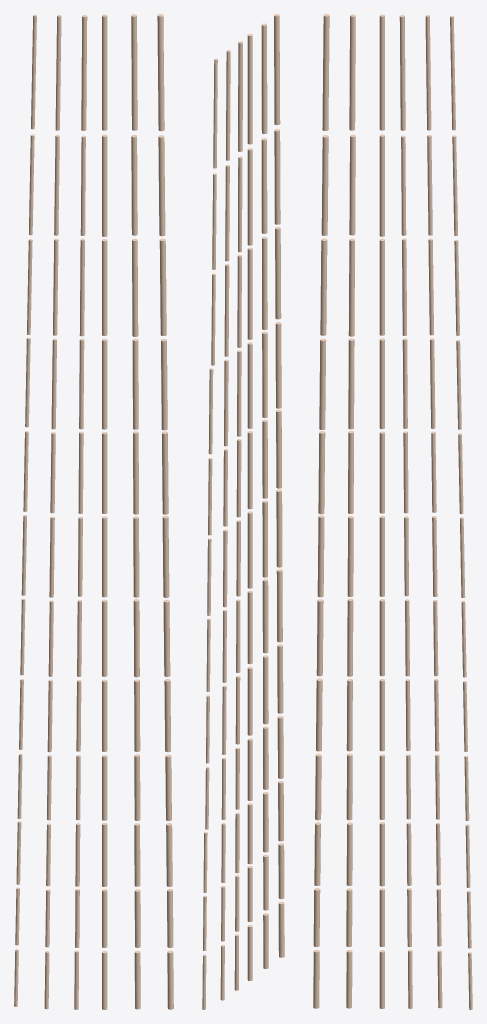
Rendered from ElecString.glb.
3 renders of one model, left to right at view 1: azimuth 90°, elevation 25°; view 2: azimuth 150°, elevation 25°; view 3: azimuth 270°, elevation 25°, orthographic. The views are drawn at different scales.
Parts seen in each view (by area): view 1: S6_1, S5_1, S4_1, S5_2, S6_2, S3_1, S6_3, S6_4, S4_2, S5_4, S5_3, S2_1 (+34 smaller); view 2: S5_1, S6_1, S4_1, S6_2, S5_2, S4_2, S6_4, S6_3, S5_3, S4_3, S3_1, S6_6 (+59 smaller); view 3: S6_1, S5_1, S4_1, S5_2, S6_2, S3_1, S6_3, S4_2, S5_4, S6_4, S5_3, S2_1 (+38 smaller).
Part boxes in pixels (x1=…): S6_1: x1=157, y1=14, x2=164, y2=131; S5_1: x1=131, y1=14, x2=137, y2=130; S4_1: x1=102, y1=14, x2=107, y2=130; S5_2: x1=131, y1=135, x2=137, y2=235; S6_2: x1=158, y1=135, x2=165, y2=236; S3_1: x1=81, y1=15, x2=87, y2=130; S6_3: x1=159, y1=238, x2=166, y2=335; S6_4: x1=161, y1=339, x2=167, y2=430; S4_2: x1=102, y1=134, x2=107, y2=236; S5_4: x1=132, y1=338, x2=138, y2=429; S5_3: x1=132, y1=238, x2=138, y2=336; S2_1: x1=55, y1=15, x2=61, y2=130; S5_1: x1=261, y1=23, x2=267, y2=133; S6_1: x1=274, y1=14, x2=280, y2=125; S4_1: x1=247, y1=34, x2=252, y2=144; S6_2: x1=274, y1=129, x2=280, y2=224; S5_2: x1=261, y1=138, x2=267, y2=233; S4_2: x1=247, y1=148, x2=252, y2=245; S6_4: x1=275, y1=322, x2=281, y2=408; S6_3: x1=275, y1=227, x2=281, y2=319; S5_3: x1=262, y1=236, x2=267, y2=329; S4_3: x1=247, y1=247, x2=252, y2=339; S3_1: x1=238, y1=41, x2=242, y2=151; S6_6: x1=276, y1=489, x2=282, y2=567; S6_1: x1=322, y1=14, x2=329, y2=130; S5_1: x1=349, y1=14, x2=355, y2=130; S4_1: x1=379, y1=14, x2=384, y2=130; S5_2: x1=349, y1=134, x2=355, y2=235; S6_2: x1=321, y1=135, x2=328, y2=235; S3_1: x1=399, y1=15, x2=405, y2=130; S6_3: x1=320, y1=238, x2=327, y2=335; S4_2: x1=379, y1=134, x2=384, y2=236; S5_4: x1=348, y1=338, x2=354, y2=429; S6_4: x1=319, y1=338, x2=326, y2=429; S5_3: x1=348, y1=238, x2=354, y2=336; S2_1: x1=425, y1=15, x2=431, y2=130.
Size of the model in its own units: 0.0096 by 1.1 by 0.1601.
